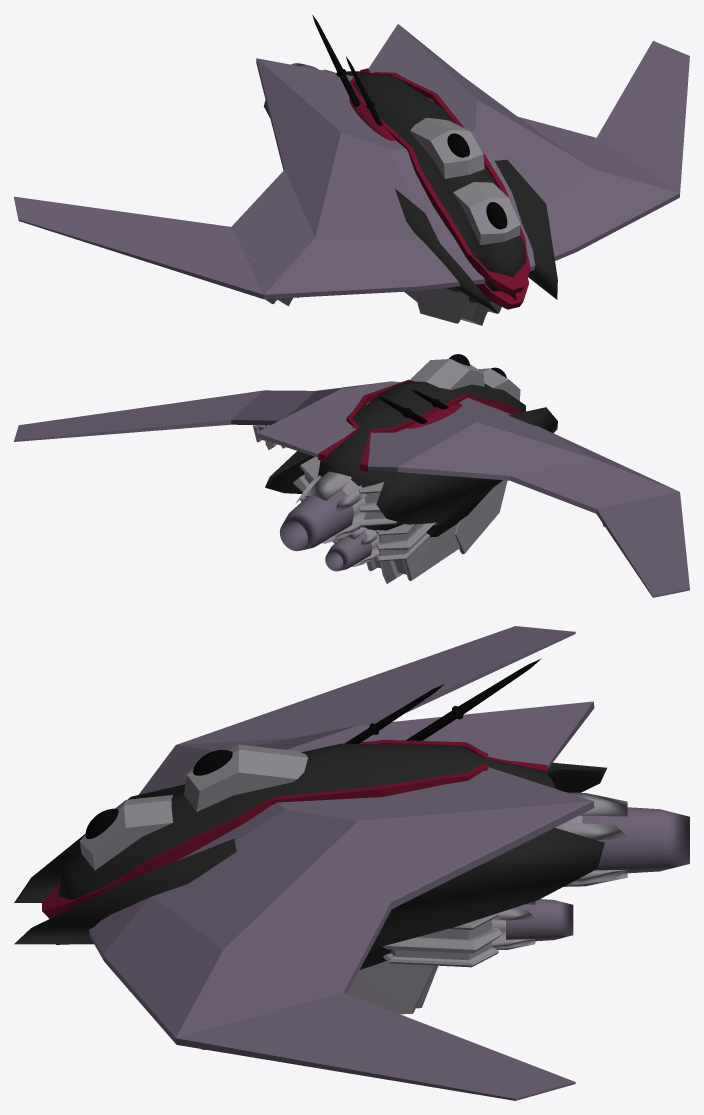
File: dronerfc.fbx
The picture shows the model from 3 angles, top to bottom: view 1: azimuth 30°, elevation 25°; view 2: azimuth 150°, elevation 25°; view 3: azimuth 270°, elevation 25°; orthographic projection. The views are drawn at different scales.
Parts seen in each view (by area): view 1: Cube.231, Cube.123, Cube.252, Cube.228, Cube.227, Cube.232, Cone.003, Cube.253; view 2: Cube.231, Cube.123, Cylinder.115, Cube.235, Cube.230, Cube.252, Cube.232, Cube.228, Cube.238, Cylinder.114, Cube.236, Cube.227 (+3 smaller); view 3: Cube.231, Cube.123, Cube.252, Cylinder.115, Cube.228, Cube.239, Cube.235, Cube.227, Cube.230, Cylinder.114, Cone.003, Cube.229 (+1 smaller).
Part boxes in pixels (x1,y1,x2,y2): Cube.231: (14,24,689,299); Cube.123: (263,71,557,313); Cube.252: (349,68,530,294); Cube.228: (410,117,484,178); Cube.227: (453,182,520,244); Cube.232: (414,288,501,325); Cone.003: (312,15,359,106); Cube.253: (476,283,517,309); Cube.231: (14,381,689,597); Cube.123: (265,380,557,537); Cylinder.115: (279,489,353,551); Cube.235: (366,523,459,583); Cube.230: (295,471,366,543); Cube.252: (318,379,521,471); Cube.232: (454,480,507,554); Cube.228: (410,359,484,390); Cube.238: (375,522,435,561); Cylinder.114: (325,532,372,571); Cube.236: (359,482,397,526); Cube.227: (478,368,520,400); Cube.231: (89,626,594,1100); Cube.123: (14,743,606,969); Cube.252: (42,740,547,918); Cylinder.115: (582,807,689,873); Cube.228: (184,744,307,811); Cube.239: (382,913,501,967); Cube.235: (347,961,438,1014); Cube.227: (80,795,172,870); Cube.230: (557,792,627,886); Cylinder.114: (506,899,573,941); Cone.003: (405,658,541,740); Cube.229: (492,901,535,949).
Size of the model in its own units: 685 by 233 by 414.
